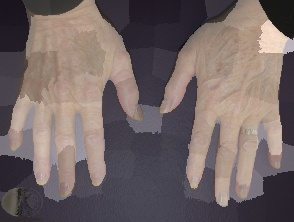Nail_psoriasis: (124, 96, 155, 127), (155, 91, 179, 120), (4, 132, 28, 156), (232, 178, 255, 203), (55, 176, 77, 201), (87, 165, 109, 190), (32, 162, 52, 188), (266, 151, 288, 174), (186, 170, 204, 193), (216, 188, 231, 209)
